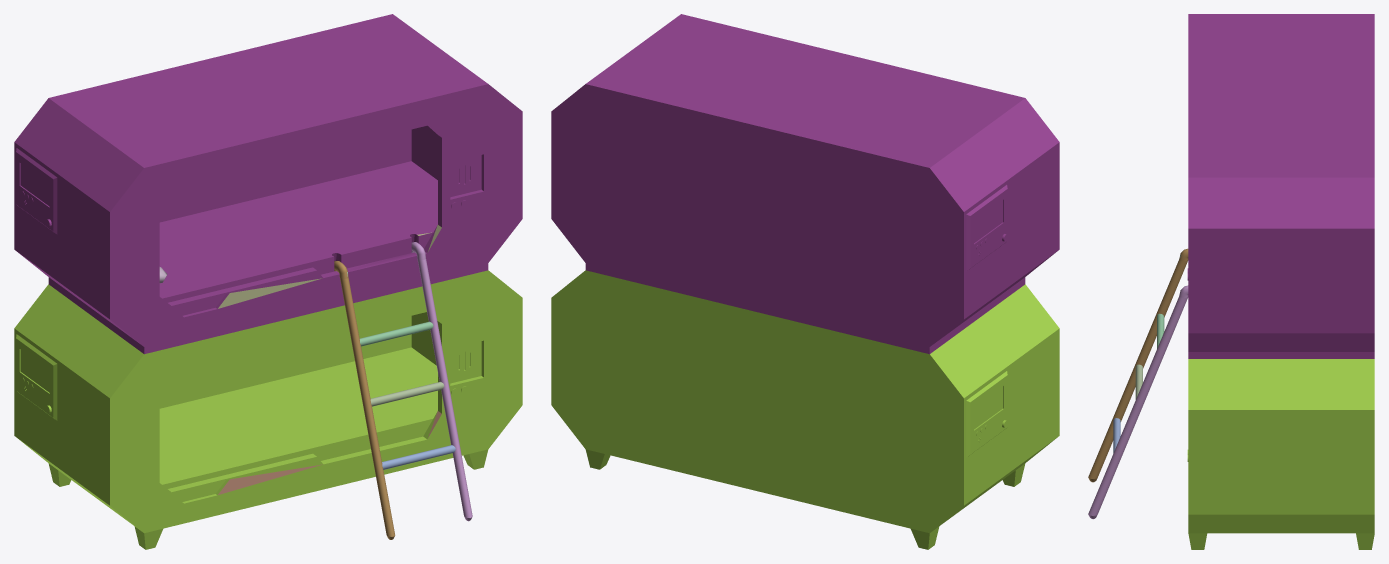
Rendered from krovat.fbx.
The picture shows the model from 3 angles, left to right: view 1: azimuth 30°, elevation 25°; view 2: azimuth 150°, elevation 25°; view 3: azimuth 270°, elevation 25°; orthographic projection. The views are drawn at different scales.
Parts seen in each view (by area): view 1: 006-0-6, 005-0-5, 002-0-2, 001-0-1, 004-0-4, 003-0-3, 000-0-0; view 2: 006-0-6, 005-0-5; view 3: 006-0-6, 005-0-5, 001-0-1, 002-0-2.
Part boxes in pixels (<box>): 006-0-6: <box>14,14,522,354</box>; 005-0-5: <box>14,270,522,549</box>; 002-0-2: <box>334,261,395,539</box>; 001-0-1: <box>411,242,472,521</box>; 004-0-4: <box>359,321,433,346</box>; 003-0-3: <box>370,381,444,406</box>; 000-0-0: <box>382,445,455,469</box>; 006-0-6: <box>551,14,1059,354</box>; 005-0-5: <box>551,270,1059,549</box>; 006-0-6: <box>1187,14,1374,358</box>; 005-0-5: <box>1187,359,1374,549</box>; 001-0-1: <box>1088,285,1188,519</box>; 002-0-2: <box>1088,248,1188,482</box>.
Size of the model in its own units: 7.33 by 6.45 by 4.48.
